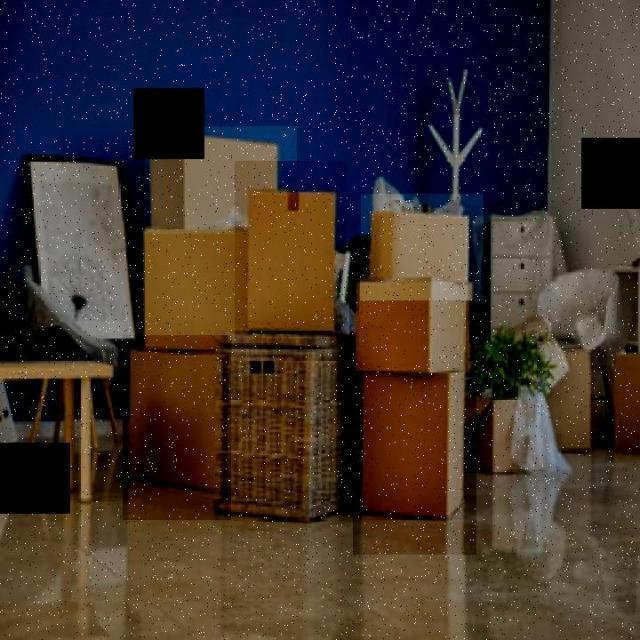box: (353, 373, 478, 556), (122, 335, 232, 520), (235, 161, 346, 344), (136, 220, 258, 362), (145, 126, 297, 234), (350, 273, 476, 393), (361, 194, 484, 300)
